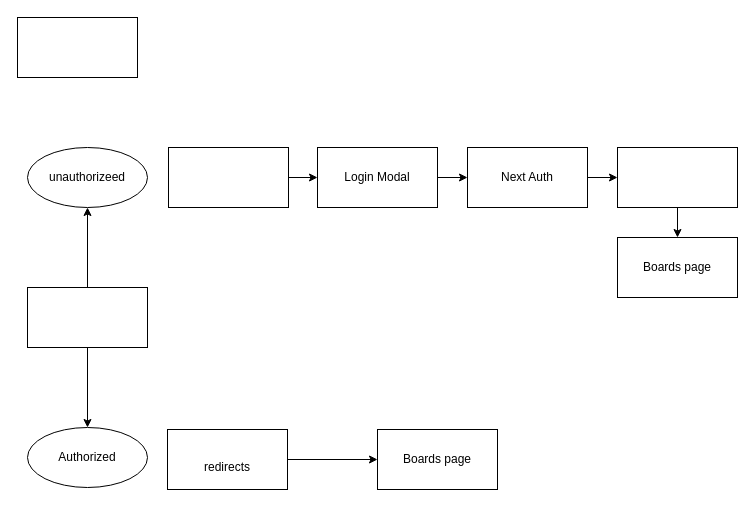
Some shapes in this 755 by 507 pixel diagram are drawn without their labels. The centre of each missing label's shape, as x and y in pixels:
Home page: (x=228, y=177)
layout check for user session: (x=87, y=317)
LOGIN: (x=77, y=47)
Sets user session: (x=677, y=177)
